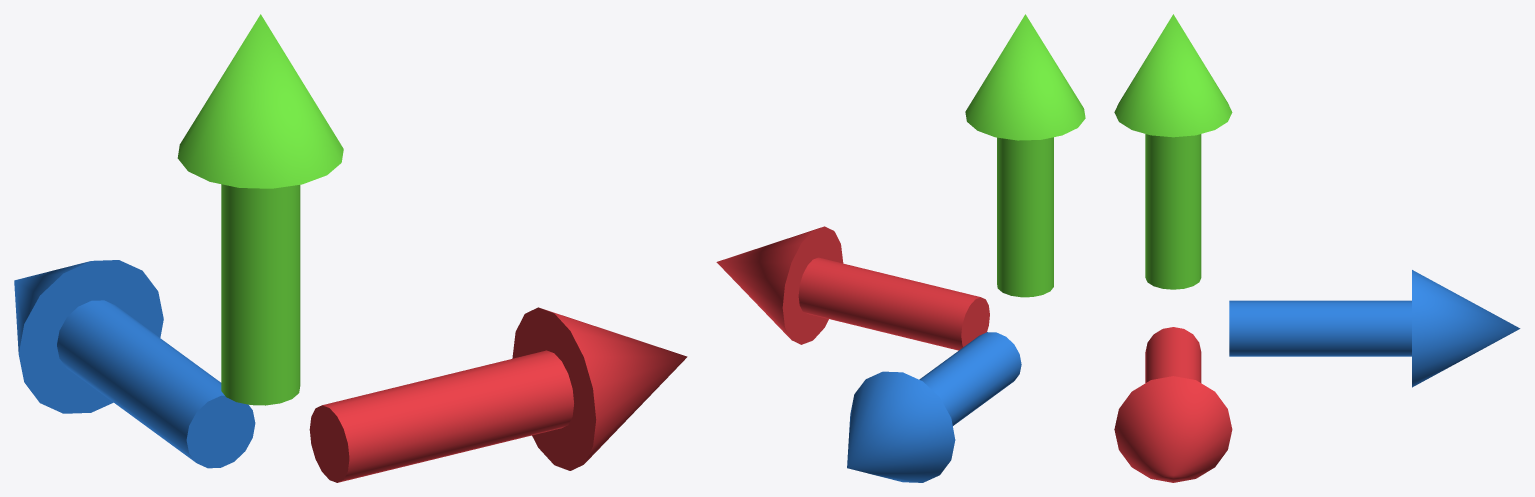
File: GizmoMovementArrows.fbx
3 renders of one model, left to right at view 1: azimuth 30°, elevation 25°; view 2: azimuth 150°, elevation 25°; view 3: azimuth 270°, elevation 25°, orthographic. The views are drawn at different scales.
Visible parts, largest first — view 1: Cylinder.001; view 2: Cylinder.001; view 3: Cylinder.001.
Part boxes in pixels (bbox=[...]): Cylinder.001: bbox=[14, 14, 687, 482]; Cylinder.001: bbox=[716, 14, 1085, 482]; Cylinder.001: bbox=[1114, 14, 1520, 482].
Bounding box in the file's own units: 1451 × 1451 × 1451.
